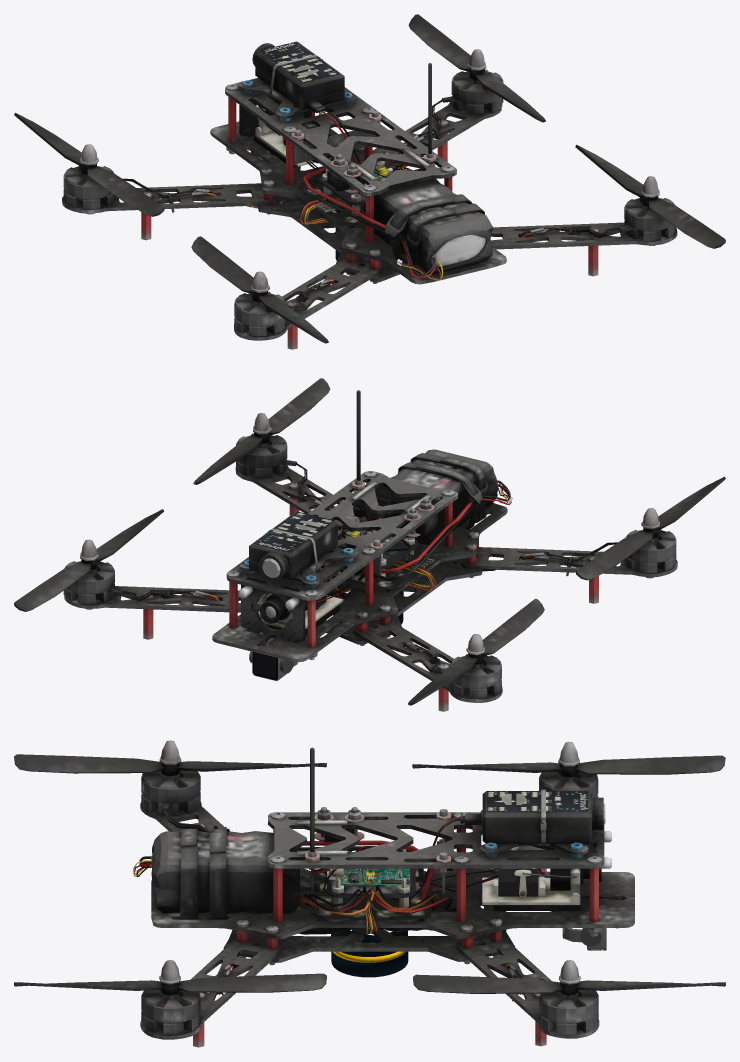
The model's file is Blend2.2-webp.glb.
The picture shows the model from 3 angles, top to bottom: view 1: azimuth 30°, elevation 25°; view 2: azimuth 150°, elevation 25°; view 3: azimuth 270°, elevation 25°; orthographic projection. The views are drawn at different scales.
Visible parts, largest first — view 1: Drone01_Drone01_0, PX4; view 2: Drone01_Drone01_0, PX4, camera; view 3: Drone01_Drone01_0, PX4, LiDAR, Jetson.
Boxes of the visible parts, x1,y1,x2,y2 form: Drone01_Drone01_0: [14, 14, 725, 349]; PX4: [259, 41, 339, 82]; Drone01_Drone01_0: [14, 378, 725, 711]; PX4: [253, 511, 334, 552]; camera: [252, 646, 286, 680]; Drone01_Drone01_0: [14, 740, 725, 1047]; PX4: [486, 791, 587, 812]; LiDAR: [331, 930, 408, 977]; Jetson: [328, 868, 410, 885].
Bounding box in the file's own units: 76.52 × 34.38 × 93.88.
Materials: 9 (9 with a texture image).
